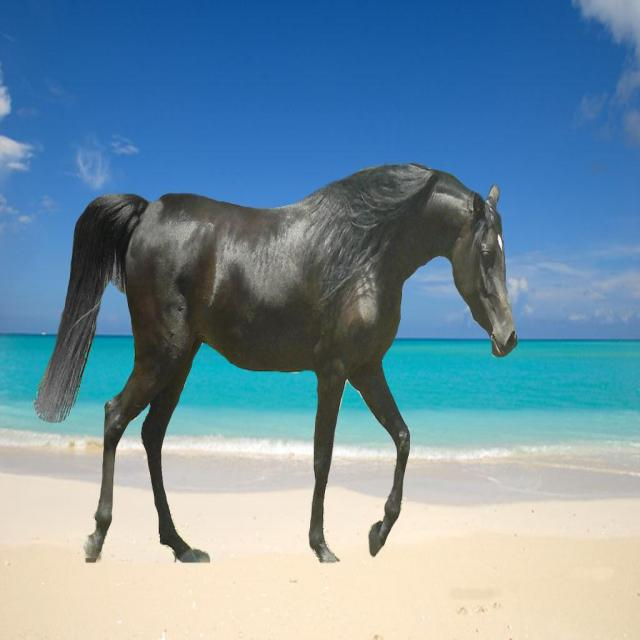Horse: (34, 162, 518, 564)
